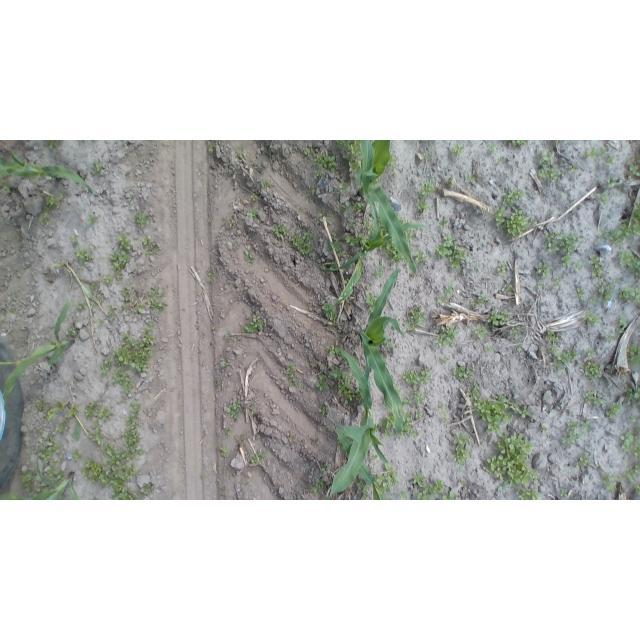Maize: (326, 347, 388, 498), (321, 222, 425, 309), (357, 140, 419, 273), (0, 300, 76, 396), (364, 270, 405, 435), (0, 149, 92, 193), (1, 451, 77, 500), (335, 427, 383, 500), (52, 262, 67, 273)
Weeds: (484, 428, 543, 480), (466, 385, 526, 431), (102, 444, 138, 500), (115, 323, 155, 372), (607, 202, 640, 246), (546, 229, 582, 265), (123, 402, 144, 461), (550, 345, 577, 372), (538, 150, 559, 183), (339, 140, 362, 170), (506, 208, 530, 236), (375, 465, 399, 490), (124, 289, 146, 316), (433, 327, 460, 349), (291, 229, 313, 256), (453, 431, 470, 464), (581, 358, 604, 381), (113, 370, 135, 394), (85, 401, 114, 419), (336, 375, 355, 402), (86, 420, 106, 445), (407, 307, 426, 333), (620, 434, 640, 457), (83, 458, 101, 482), (47, 401, 68, 421), (590, 257, 608, 280), (378, 414, 395, 438), (402, 414, 419, 436), (39, 444, 62, 460), (619, 288, 640, 305), (450, 247, 466, 269), (315, 153, 337, 169), (110, 251, 130, 268), (402, 390, 423, 406), (490, 309, 511, 325), (503, 190, 524, 205), (583, 146, 609, 158), (245, 316, 263, 333), (520, 485, 540, 500), (584, 391, 605, 405), (563, 430, 580, 447), (387, 244, 402, 263), (290, 360, 300, 388), (606, 401, 622, 418), (598, 284, 615, 300), (624, 463, 640, 480), (411, 471, 429, 486), (323, 303, 338, 321), (627, 343, 640, 363), (627, 158, 640, 178), (272, 222, 287, 239), (421, 179, 435, 197), (584, 313, 602, 326), (568, 419, 591, 429), (45, 195, 64, 207), (619, 251, 633, 267), (536, 262, 550, 278), (76, 249, 92, 263), (136, 212, 149, 229), (576, 452, 591, 466), (602, 476, 616, 491), (495, 207, 505, 228), (453, 366, 469, 379), (627, 385, 640, 401), (350, 236, 366, 249), (22, 473, 33, 491), (100, 360, 113, 375), (227, 403, 242, 416), (432, 479, 445, 494), (452, 145, 467, 158), (402, 371, 418, 383), (118, 233, 130, 249), (434, 248, 453, 258), (414, 249, 427, 263), (420, 365, 431, 381), (48, 469, 65, 479), (331, 367, 344, 380), (475, 327, 487, 341), (147, 300, 165, 309), (312, 479, 325, 491), (417, 488, 429, 501), (316, 380, 328, 393), (67, 405, 78, 419), (56, 423, 70, 434), (329, 241, 342, 252), (442, 490, 456, 500), (348, 218, 358, 232), (91, 162, 102, 174), (140, 483, 152, 494), (606, 154, 617, 166), (419, 198, 430, 210), (149, 286, 162, 296), (437, 402, 447, 415), (497, 262, 507, 275), (444, 235, 453, 249), (608, 177, 619, 188), (107, 310, 117, 322), (36, 485, 49, 494), (367, 220, 374, 236), (544, 331, 554, 342), (367, 294, 378, 304), (477, 295, 489, 304), (376, 266, 385, 278), (90, 280, 98, 293), (509, 327, 519, 337), (399, 491, 410, 500), (353, 201, 364, 210), (41, 212, 49, 224), (363, 487, 370, 500), (114, 270, 123, 280), (49, 141, 59, 150), (338, 181, 347, 191), (208, 272, 216, 283), (37, 401, 44, 413), (35, 430, 44, 439), (318, 368, 326, 378), (440, 217, 448, 227), (554, 275, 561, 286), (97, 320, 105, 329), (576, 287, 584, 296), (618, 317, 627, 325), (560, 488, 568, 497), (445, 285, 453, 294), (438, 357, 448, 364), (221, 445, 228, 455), (71, 237, 78, 247), (245, 251, 252, 261), (391, 156, 398, 166), (634, 259, 640, 270), (590, 293, 596, 304), (484, 346, 495, 352), (73, 450, 79, 461), (261, 179, 269, 187), (2, 186, 10, 194), (142, 236, 150, 244), (220, 361, 228, 369), (248, 209, 257, 216), (601, 194, 608, 202), (88, 215, 96, 222), (438, 296, 445, 304), (327, 347, 335, 354), (345, 236, 352, 244), (98, 294, 104, 303), (357, 482, 363, 491), (226, 330, 231, 340), (251, 455, 258, 462), (225, 428, 232, 435), (47, 435, 54, 442), (619, 327, 625, 335), (577, 261, 583, 269), (442, 417, 450, 423), (320, 407, 326, 415), (321, 463, 327, 471), (102, 276, 110, 282), (629, 417, 638, 422), (145, 248, 152, 254), (78, 303, 85, 309), (9, 307, 16, 313), (252, 195, 258, 201), (238, 150, 242, 159), (215, 381, 221, 387), (516, 142, 525, 146), (498, 157, 504, 163), (538, 281, 545, 286), (635, 486, 640, 493), (570, 165, 575, 172), (470, 176, 475, 183), (305, 152, 312, 157), (373, 455, 378, 461), (229, 220, 234, 226), (490, 145, 494, 152), (316, 173, 323, 177), (288, 436, 293, 441), (212, 328, 217, 333), (92, 496, 98, 500), (209, 145, 213, 151), (461, 481, 466, 485)
